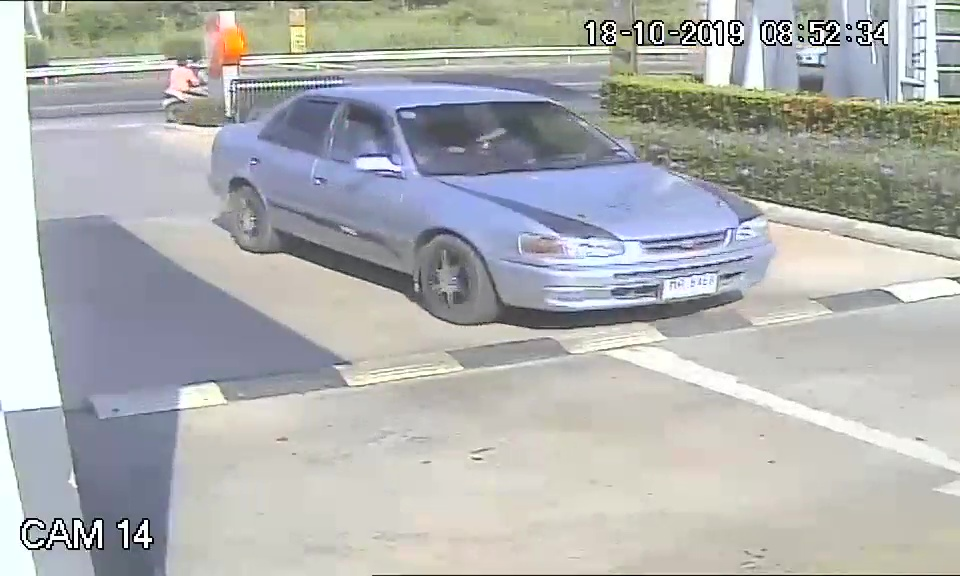sedan: (208, 83, 775, 328)
